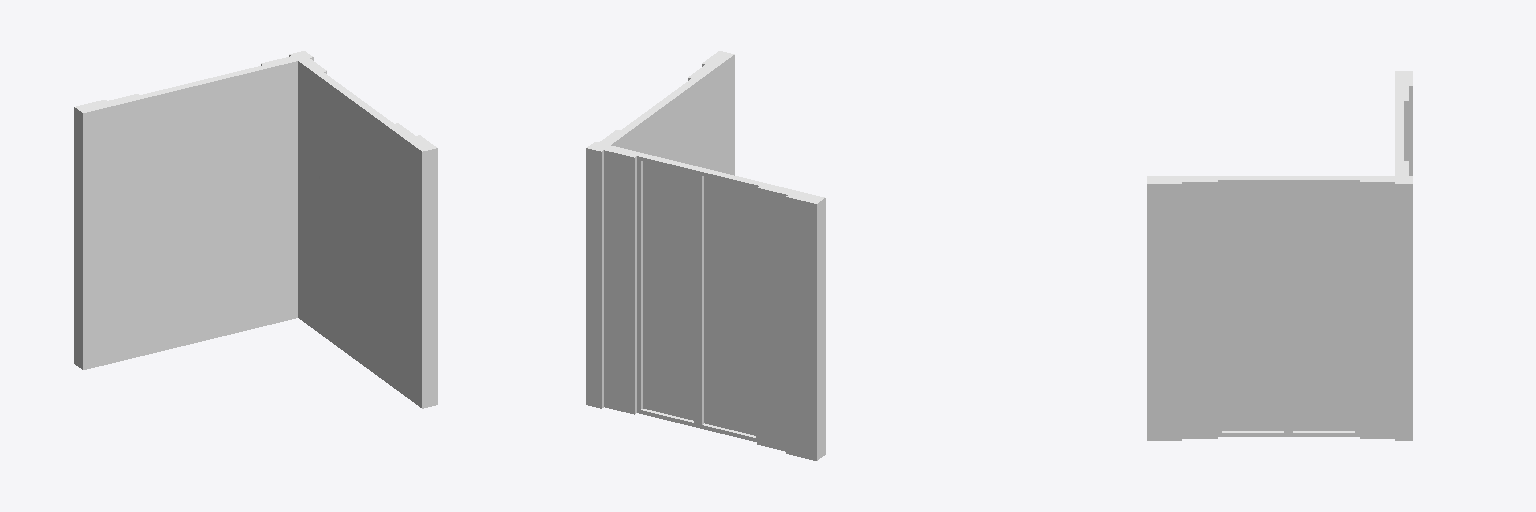
File: old_brick_peach_wall_m_corner.obj
3 views of the same model, side by side, from view 1: azimuth 30°, elevation 25°; view 2: azimuth 150°, elevation 25°; view 3: azimuth 270°, elevation 25° (orthographic).
Size of the model in its own units: 60 by 64 by 60.